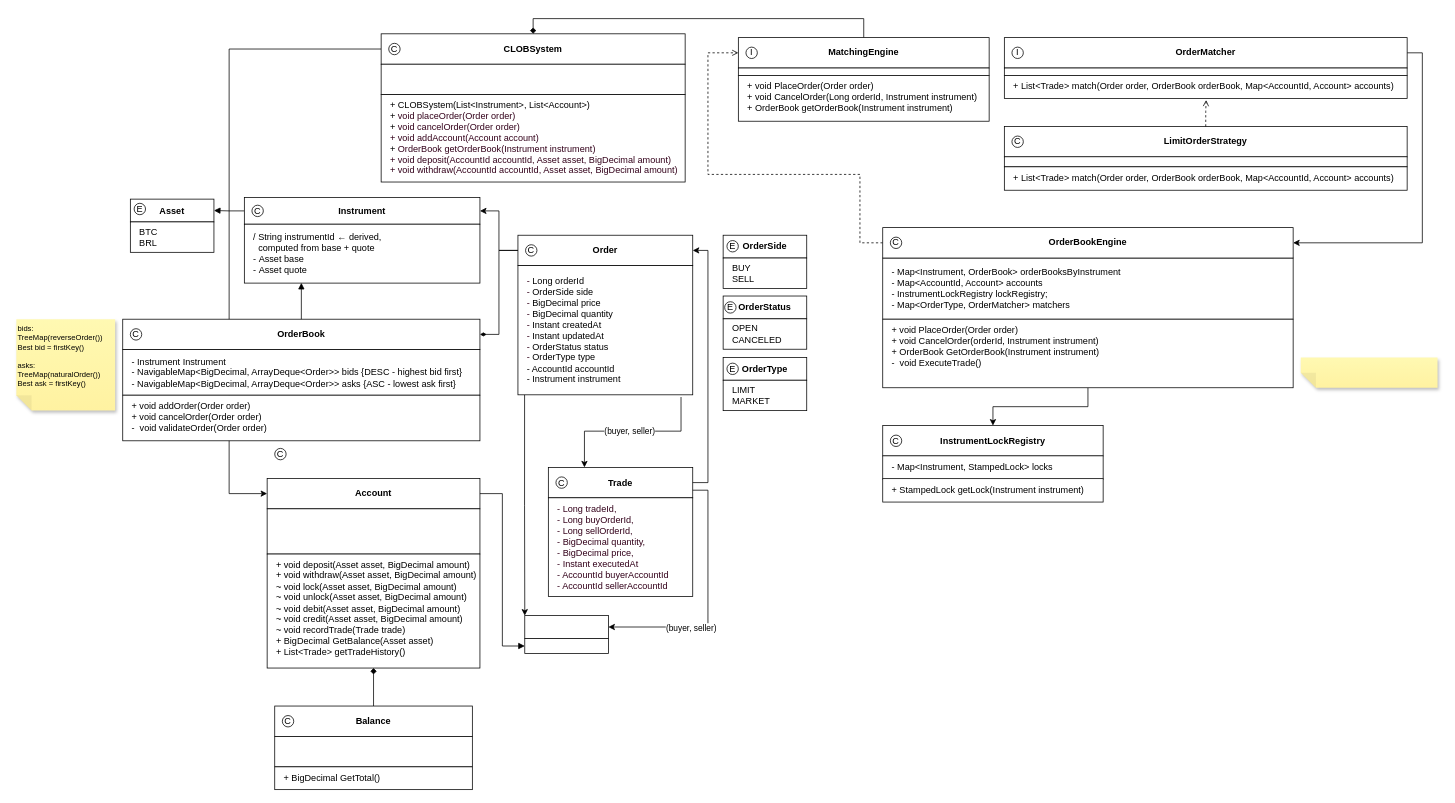
The diagram is 1455 pixels wide and 803 high, and some of its shapes have lost their labels. Each missing label, with the centre of its shape:
"- AccountId id - Map<Asset, Balance> balancesByAsset - List<Trade> tradeHistory" goes at [373,531].
"- BigDecimal available ; - BigDecimal locked ;" goes at [373,751].
"- MatchingEngine matchingEngine - Map<AccountId, Account> accounts" goes at [532,79].
"AccountId" goes at [566,626].
"String value" goes at [566,646].
"«Strategy Pattern» routes matching by OrderType" goes at [1369,373].
